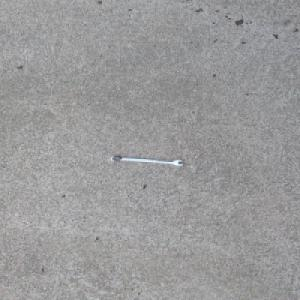Wrench: (109, 155, 185, 166)
